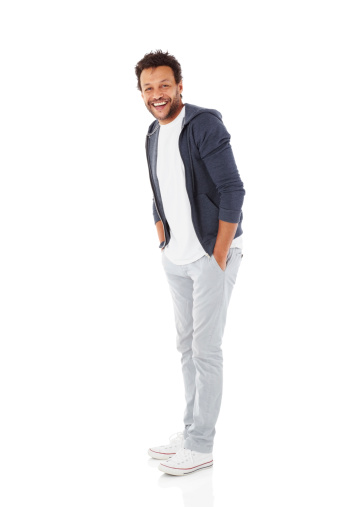em pe: (109, 43, 249, 491)
